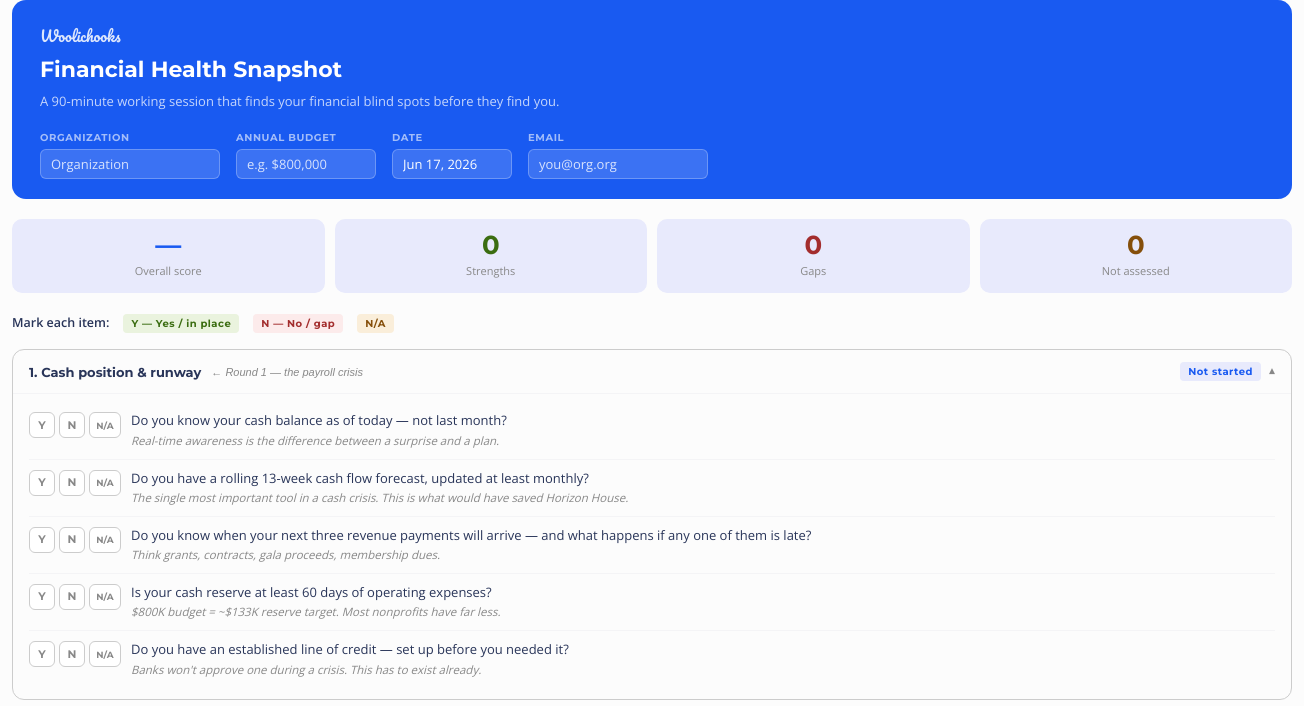
Test case: FinancialHealthSnapshot › scores a "Yes" on an in-place control as a strength (100%)
Click the 1st button "Y": point(42, 425) 29,412 -> 55,438
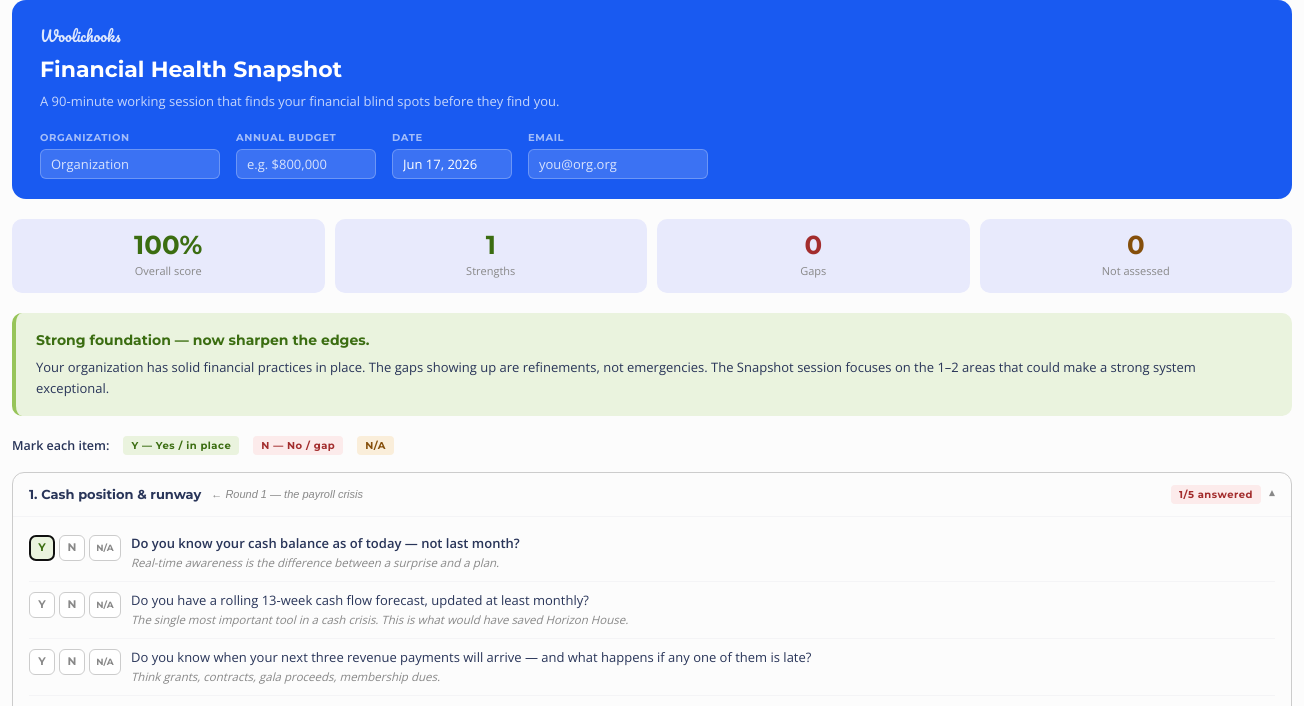
expect the text "100%" is shown: met, box 134,229 -> 202,261
